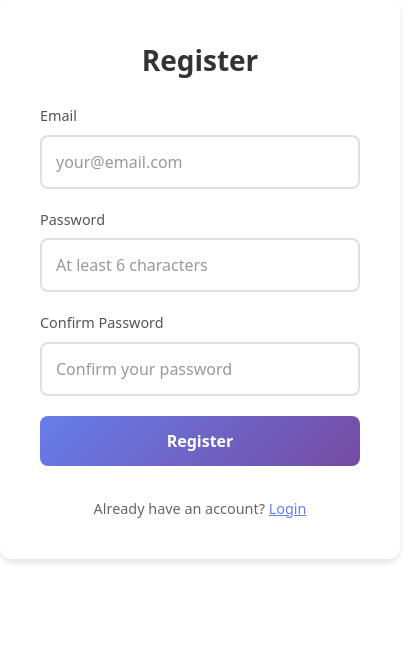
RegisterForm › shows error when password is too short
Type "a@b.com" into the field labelled "Email" at (200, 162), box [40,135,360,189]
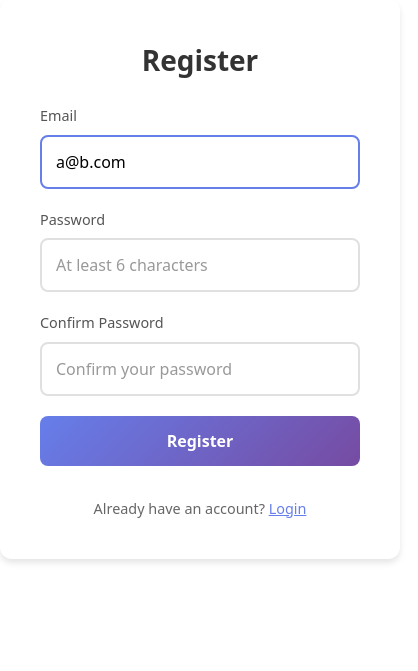
Type "short" into the password field labelled "Password" at (200, 265), box [40,238,360,292]
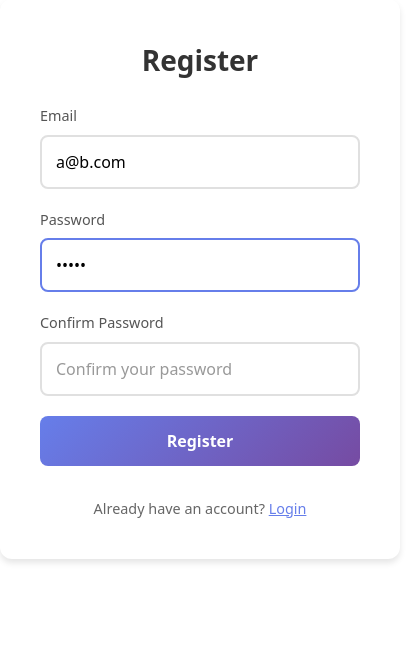
Type "short" into the password field labelled "Confirm Password" at (200, 369), box [40,342,360,396]
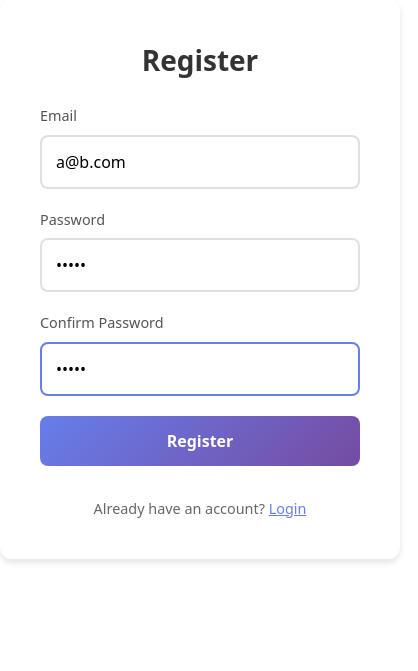
Click the button "Register" at (200, 441), box [40,416,360,466]
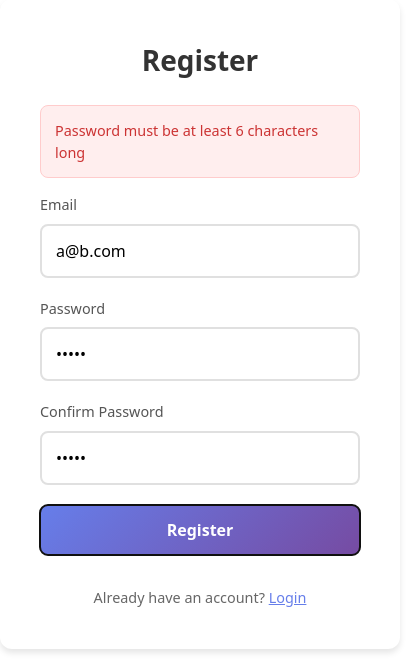
Expected: the text "Password must be at least 6 characters long" is shown, [40,105,360,178]
